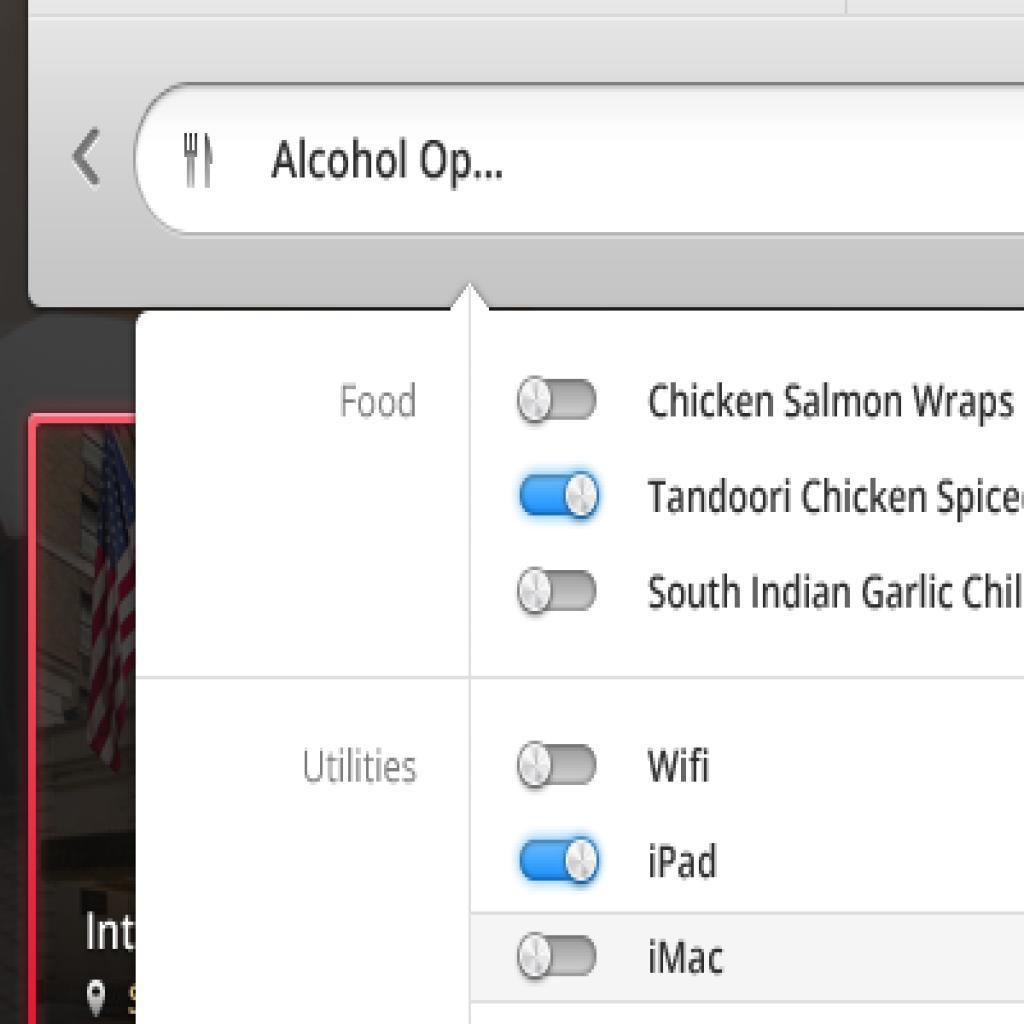icon: (66, 116, 115, 197)
input: (141, 80, 1024, 231)
switch: (516, 832, 606, 891), (519, 469, 601, 526), (518, 930, 602, 985), (517, 739, 598, 795), (516, 376, 601, 428), (520, 567, 599, 618)
